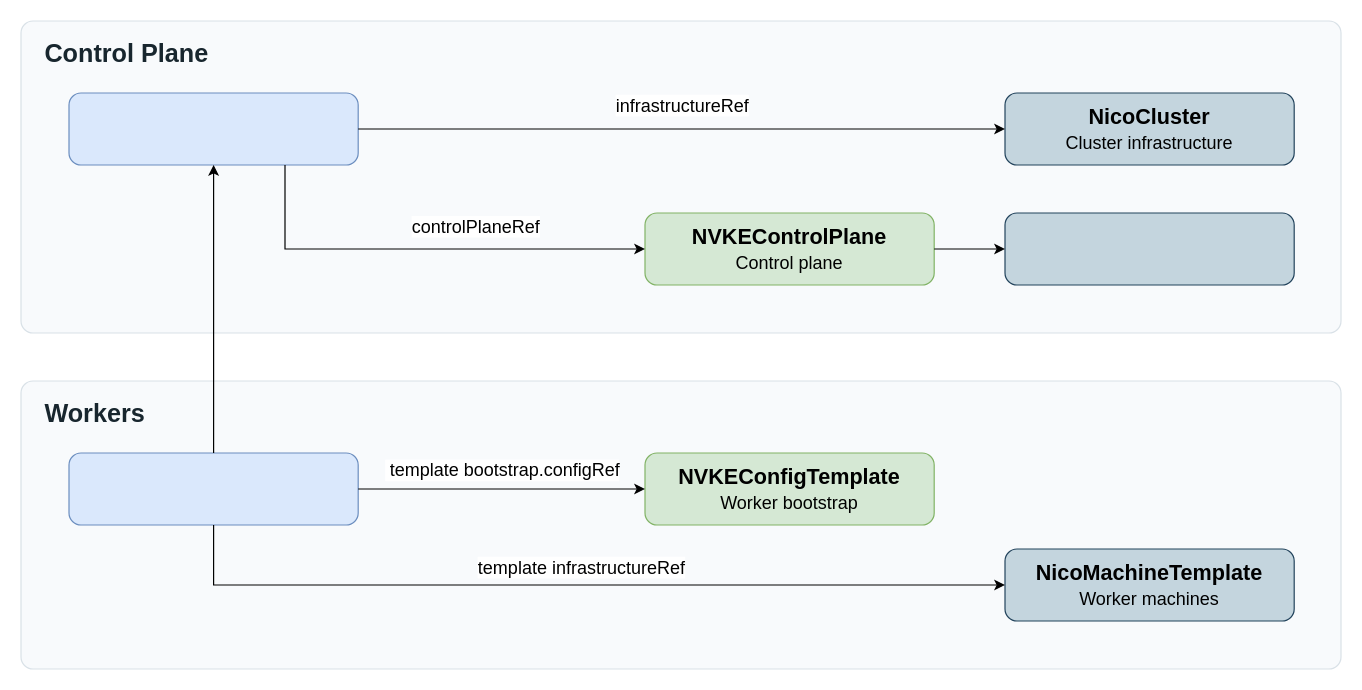
Some shapes in this 1362 by 690 pixel diagram are drawn without their labels. Here are the shapes that lost their labels. From the top down, the box of each, then its label:
(68, 92, 358, 165): Cluster CAPI core
(1004, 212, 1294, 285): NicoMachineTemplate Control-plane machines
(68, 452, 358, 525): MachineDeployment CAPI core
